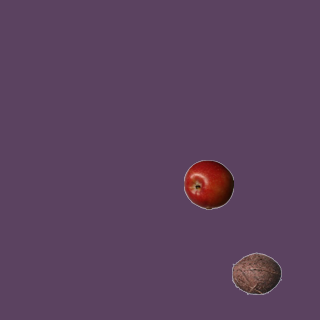Apple Braeburn: (183, 159, 233, 209)
Cocos: (231, 248, 281, 298)
